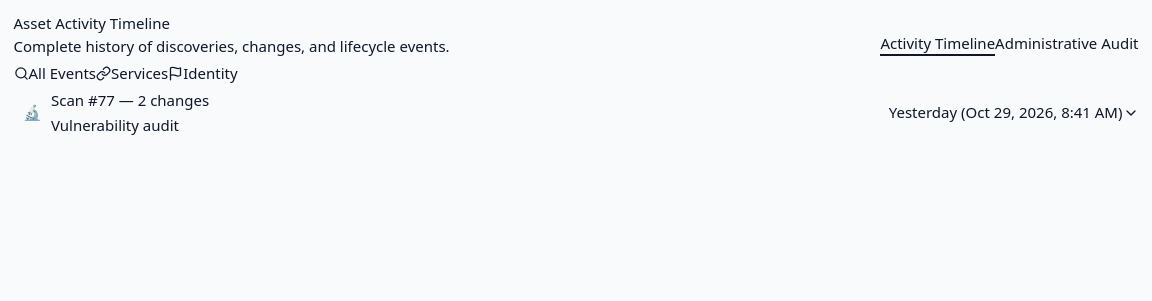
Scenario: AuditTimeline — activity view › collapses groups by default and expands them from a button that says so
Expected: the text "Port 443 opened" is not shown
Click the button "Scan #77" at point(130, 100), box [14,89,1138,136]
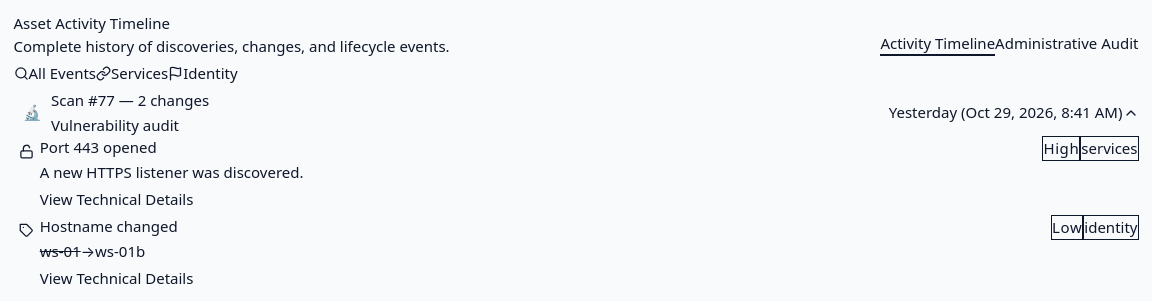
Result: the button "Scan #77" is expanded at [14,89,1138,136]
Result: the text "Hostname changed" is shown at [40,215,178,238]
